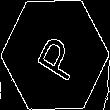P_NW: (27, 26, 83, 84)
